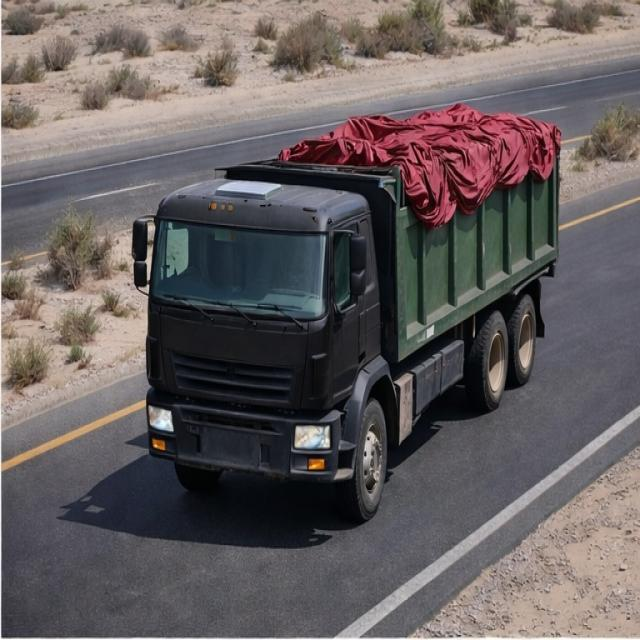Box: (218, 104, 560, 202)
Truck: (129, 93, 566, 518)
